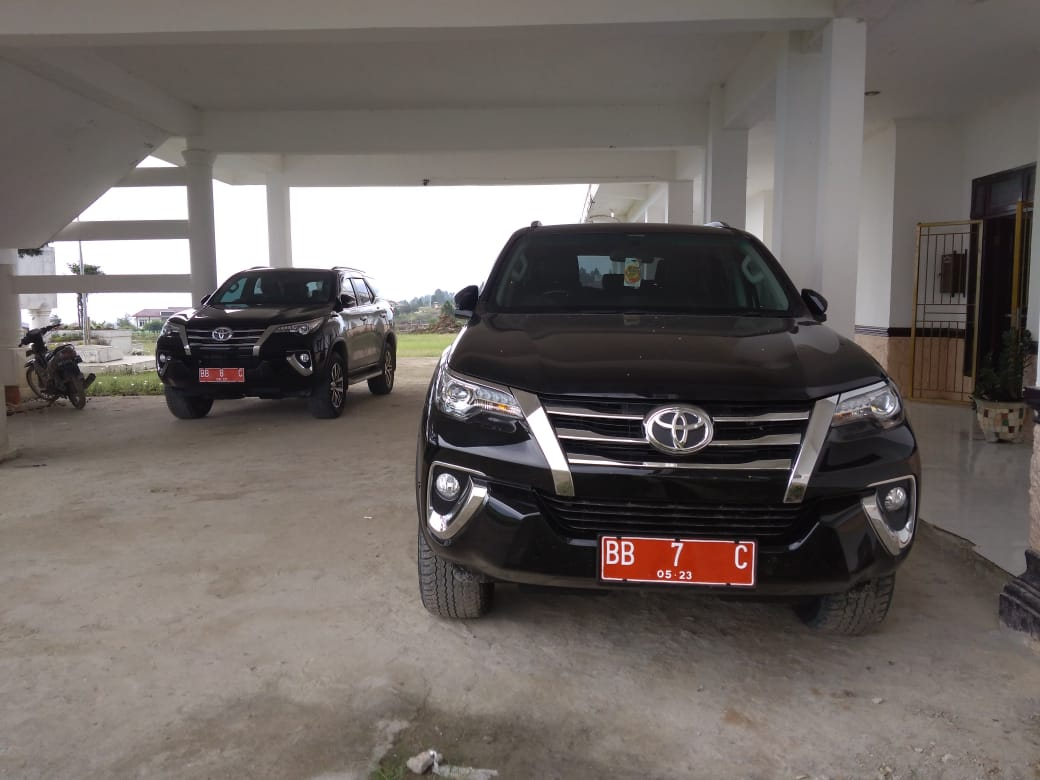plate: (600, 536, 753, 587), (199, 368, 245, 382)
